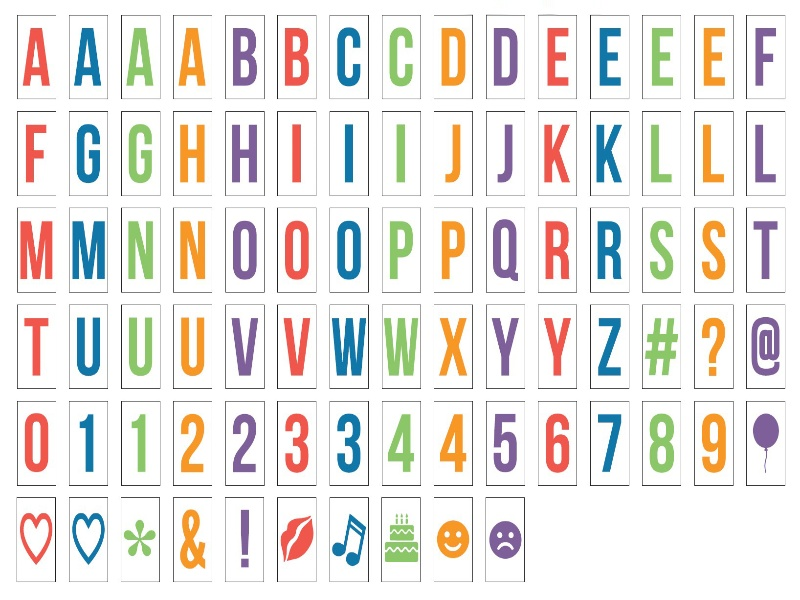letter: (275, 308, 322, 384), (225, 112, 269, 192), (119, 15, 161, 96), (167, 17, 210, 96), (434, 115, 477, 194), (589, 214, 634, 287), (279, 115, 319, 196), (225, 15, 264, 95), (19, 18, 57, 100), (173, 313, 217, 383), (696, 18, 734, 97), (593, 18, 630, 99), (384, 19, 422, 97), (488, 19, 524, 100), (175, 113, 211, 194), (279, 17, 315, 97), (589, 116, 629, 188), (644, 122, 683, 195), (72, 19, 108, 98), (644, 18, 680, 97), (747, 18, 783, 97), (539, 18, 574, 99), (123, 113, 158, 194), (333, 116, 369, 194), (333, 311, 373, 380), (122, 313, 163, 379), (592, 308, 629, 381), (437, 18, 471, 97), (537, 218, 577, 285), (20, 116, 56, 190), (696, 122, 733, 193), (332, 16, 364, 98), (434, 313, 472, 382), (537, 311, 576, 378), (489, 311, 525, 383), (538, 116, 573, 189), (18, 314, 56, 381), (226, 313, 264, 380), (749, 122, 786, 190), (385, 309, 419, 383), (72, 113, 104, 191), (124, 219, 161, 286), (18, 222, 57, 285), (228, 218, 267, 281), (433, 215, 469, 283), (71, 311, 107, 379), (489, 122, 525, 189), (280, 219, 317, 282), (72, 217, 108, 281), (176, 217, 210, 284), (383, 219, 418, 284), (751, 215, 788, 275), (697, 220, 732, 283), (646, 222, 681, 283), (491, 220, 524, 283), (336, 220, 368, 284), (387, 119, 414, 192)
